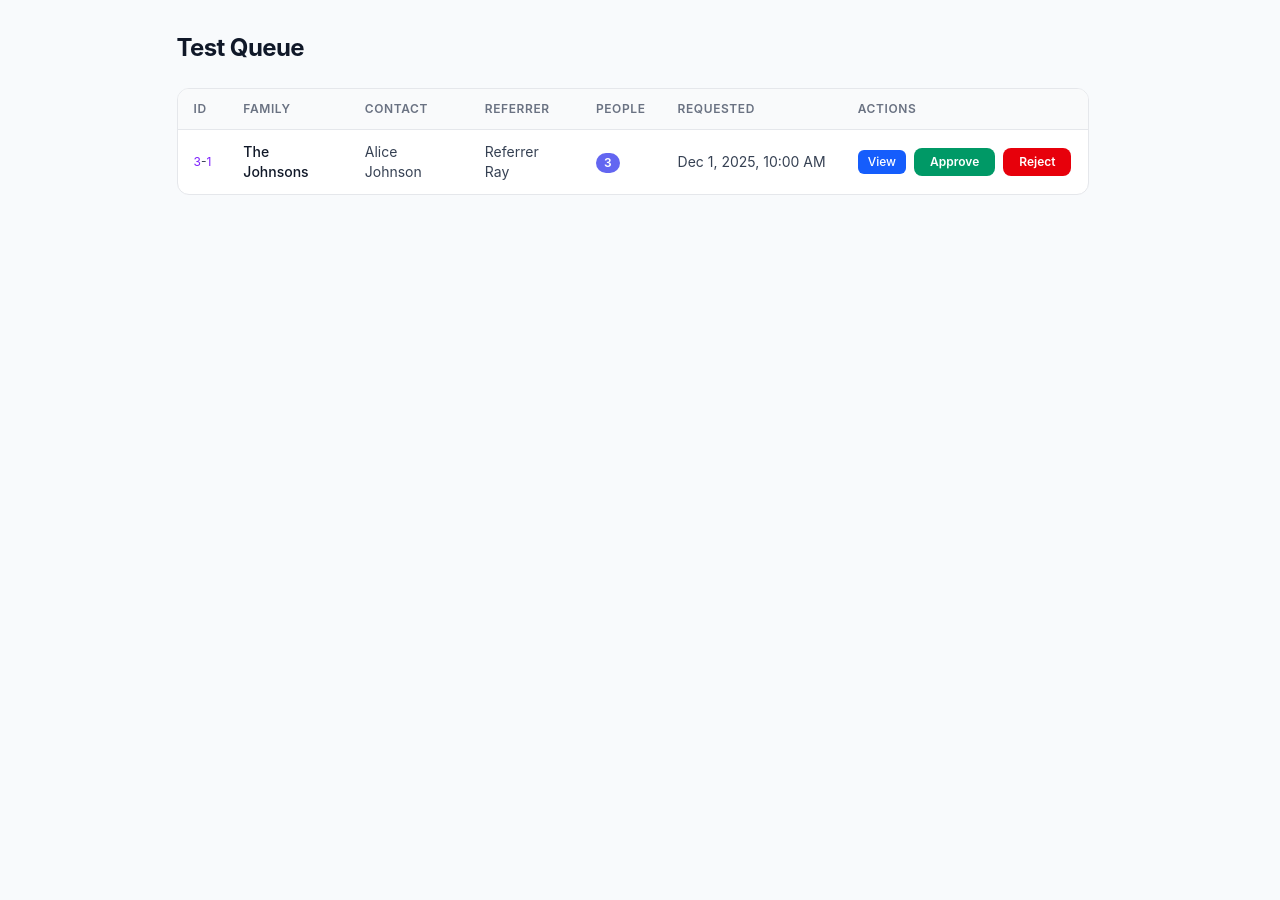
Scenario: WishReviewQueue › rejects via the reason modal and passes the reason to the API
This screenshot has width=1280, height=900.
Click the button "Reject" at (1037, 162), box [1003,148,1072,176]
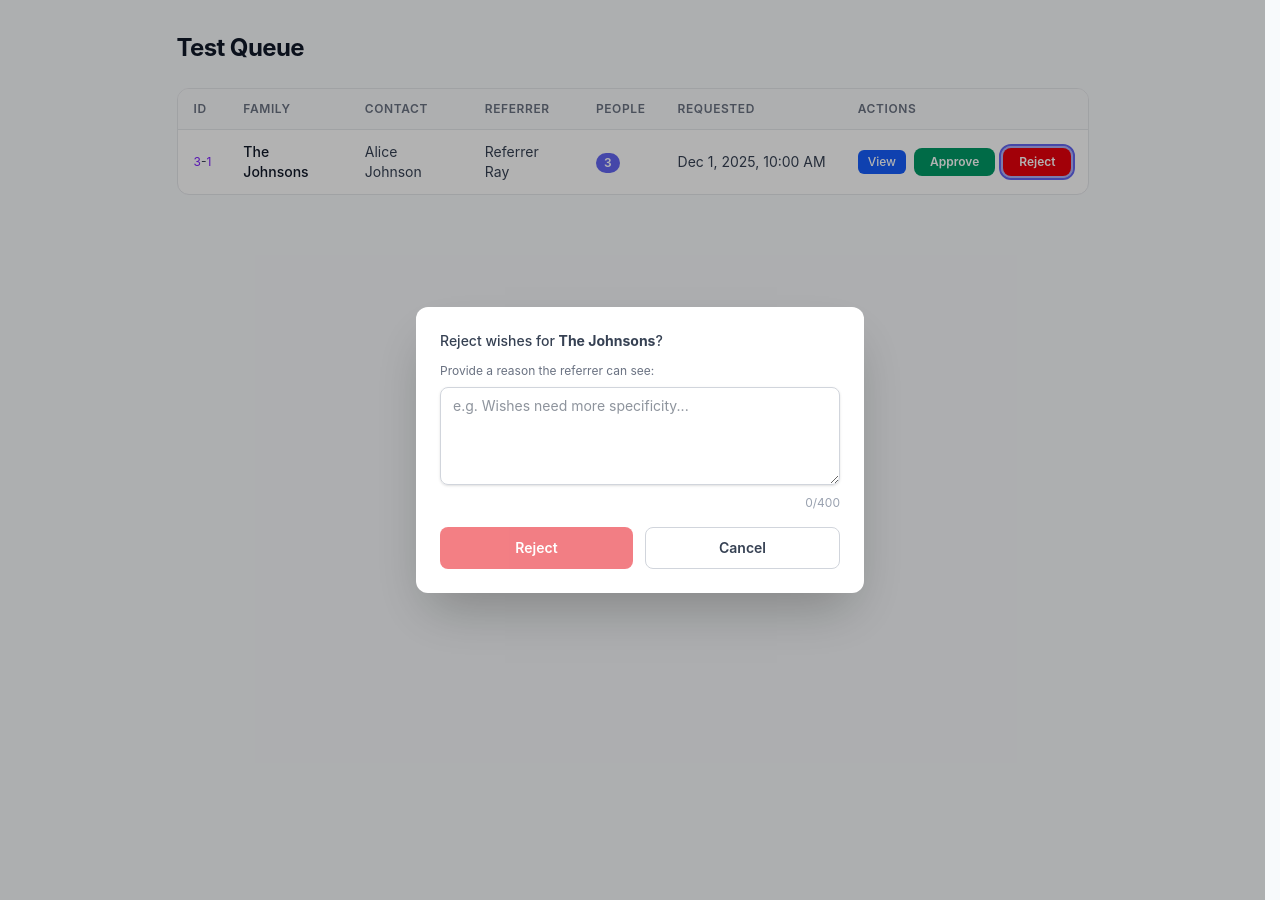
Expected: the text "Provide a reason the referrer can see:" is shown, [440,363,654,378]
Type "Too vague" into the text box named "Rejection reason" at (640, 436), box [440,387,840,485]
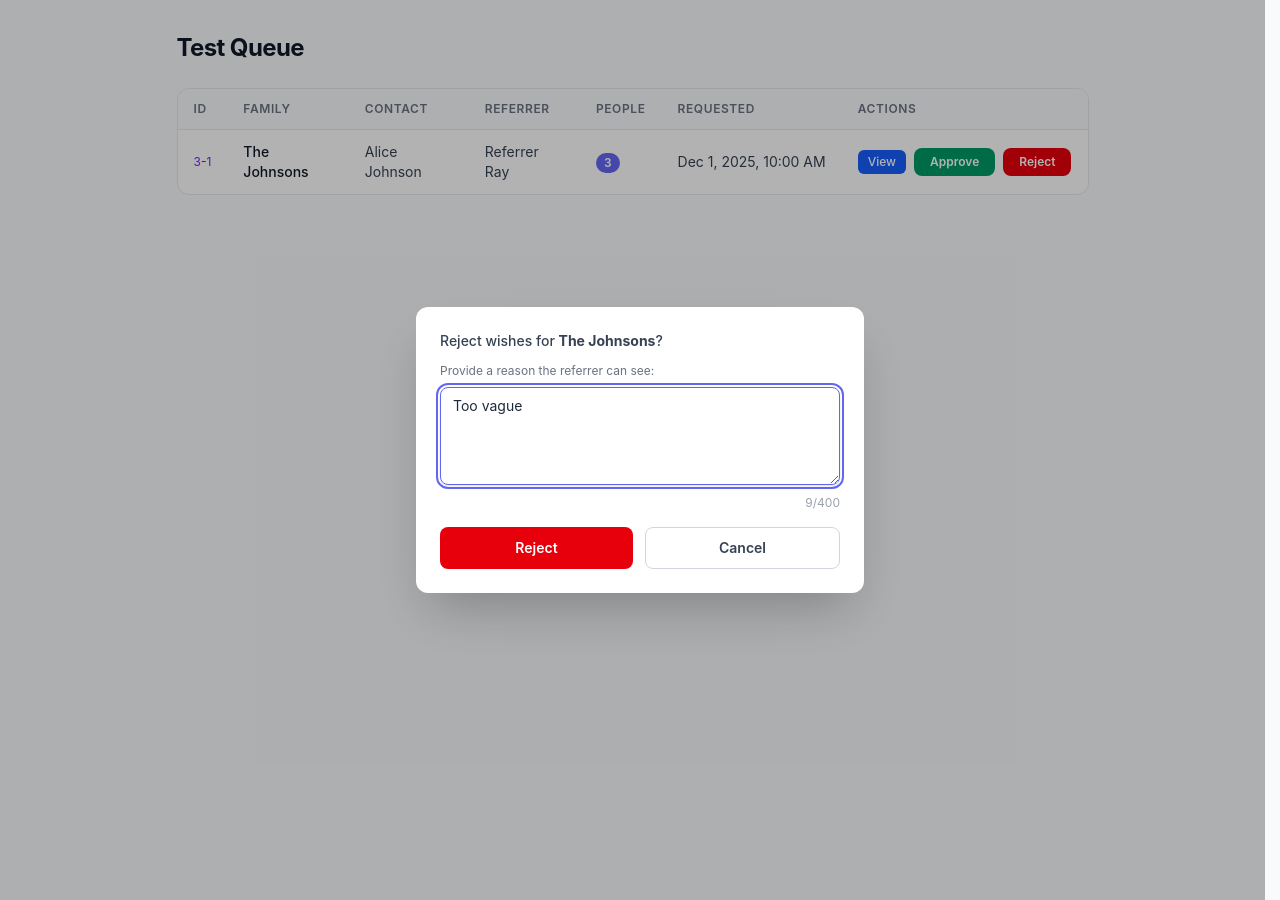
Click the button "Reject" at (536, 548), box [440,527,633,569]
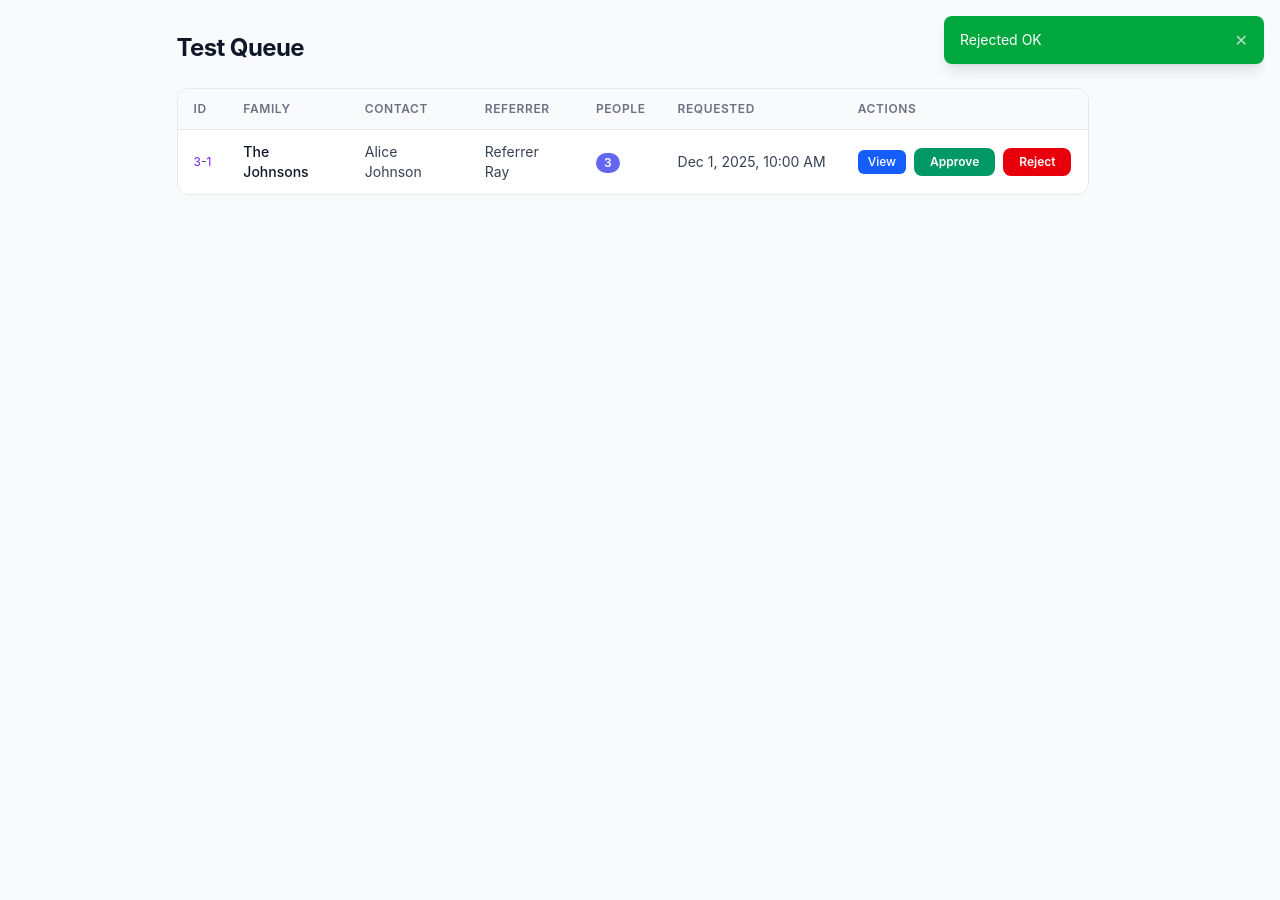
Expected: the text "Rejected OK" is shown, [960,31,1042,48]
